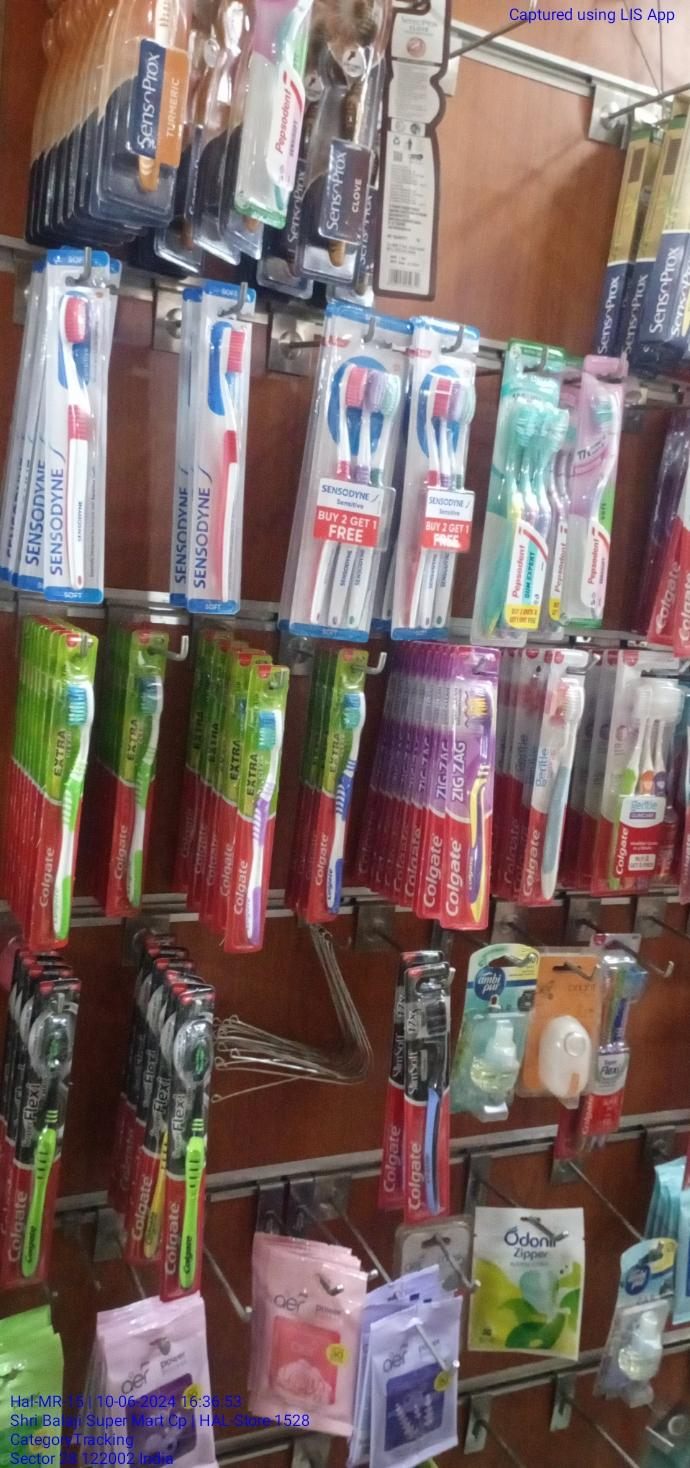11: (488, 337, 557, 645)
13: (568, 355, 607, 633)
soap: (405, 963, 450, 1223)
